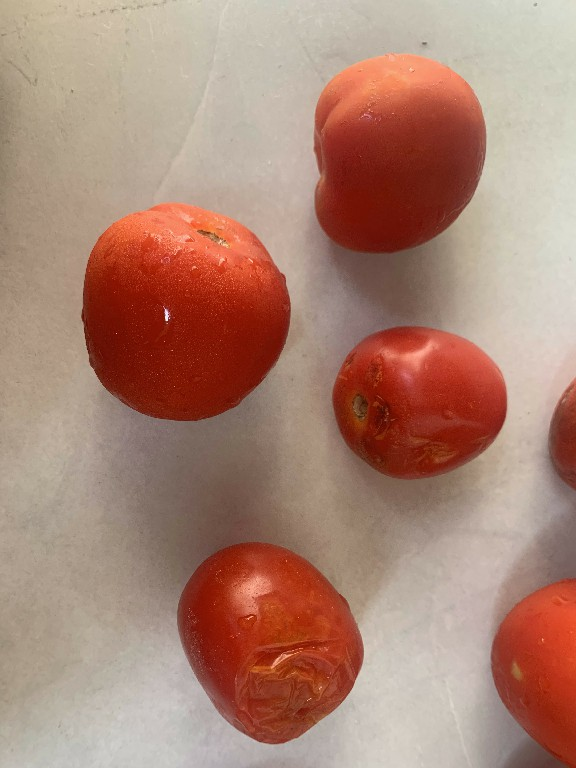NG: (170, 534, 369, 747), (322, 314, 522, 485)
OK: (68, 193, 297, 430), (300, 40, 498, 265)
